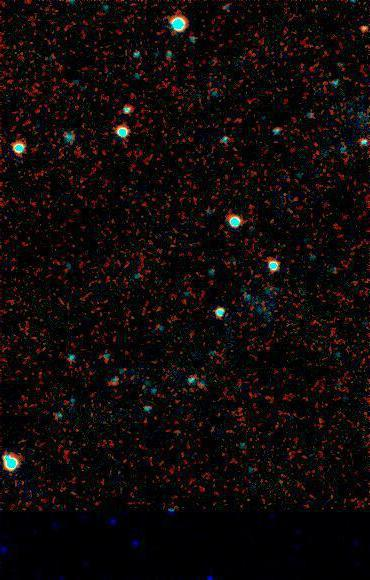star: (346, 16, 370, 46)
